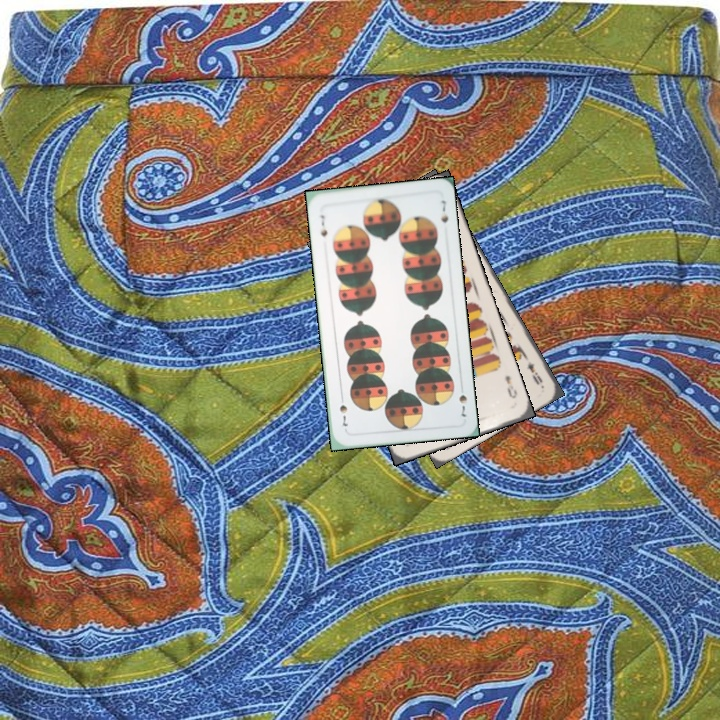E9: (523, 357, 545, 387), (501, 371, 520, 401)
S7: (455, 391, 469, 419), (316, 211, 330, 239)
